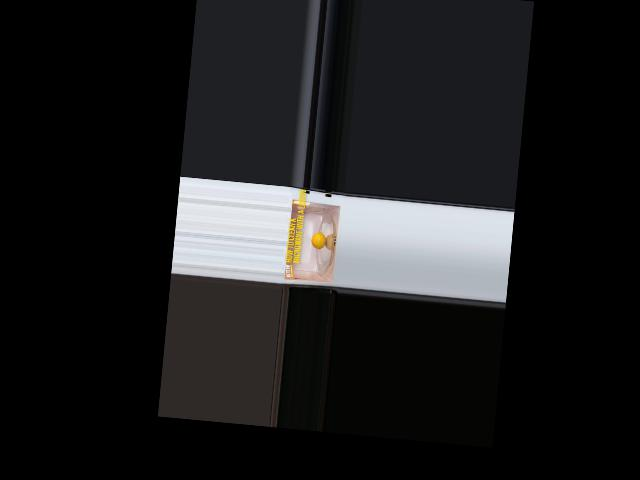lemon: (309, 223, 330, 250)
